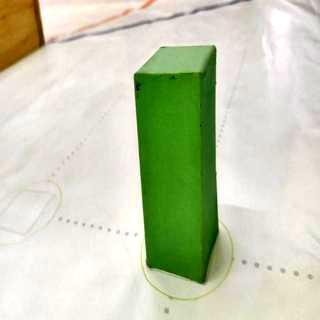greenbox: (132, 44, 218, 286)
